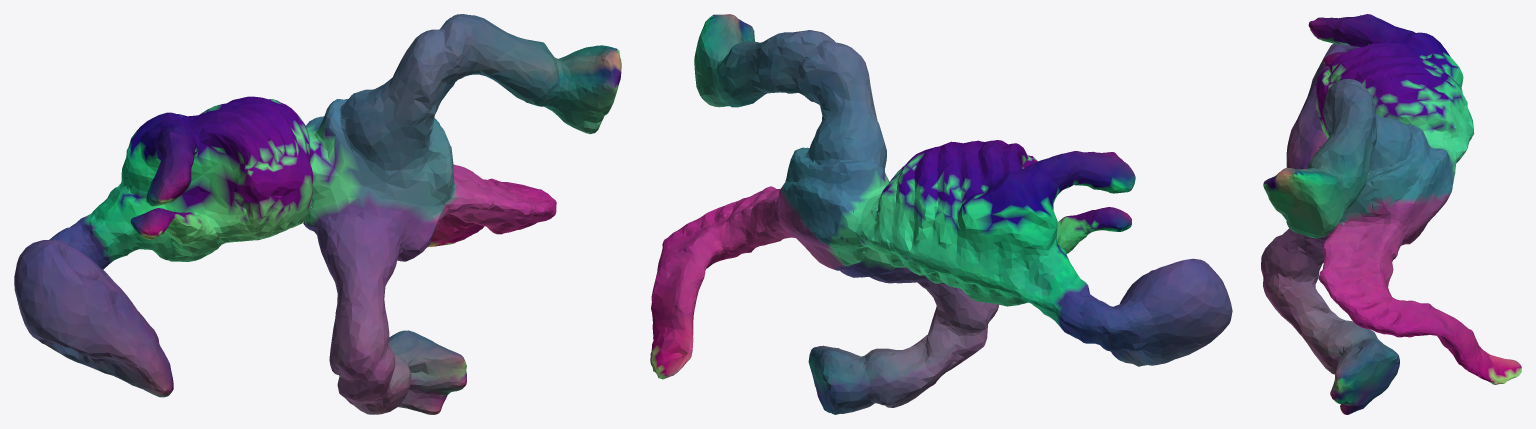
Rendered from dino_skel-11.off.obj.
The picture shows the model from 3 angles, left to right: view 1: azimuth 30°, elevation 25°; view 2: azimuth 150°, elevation 25°; view 3: azimuth 270°, elevation 25°; orthographic projection. The views are drawn at different scales.
Bounding box in the file's own units: 1.64 × 1.07 × 0.7438.
